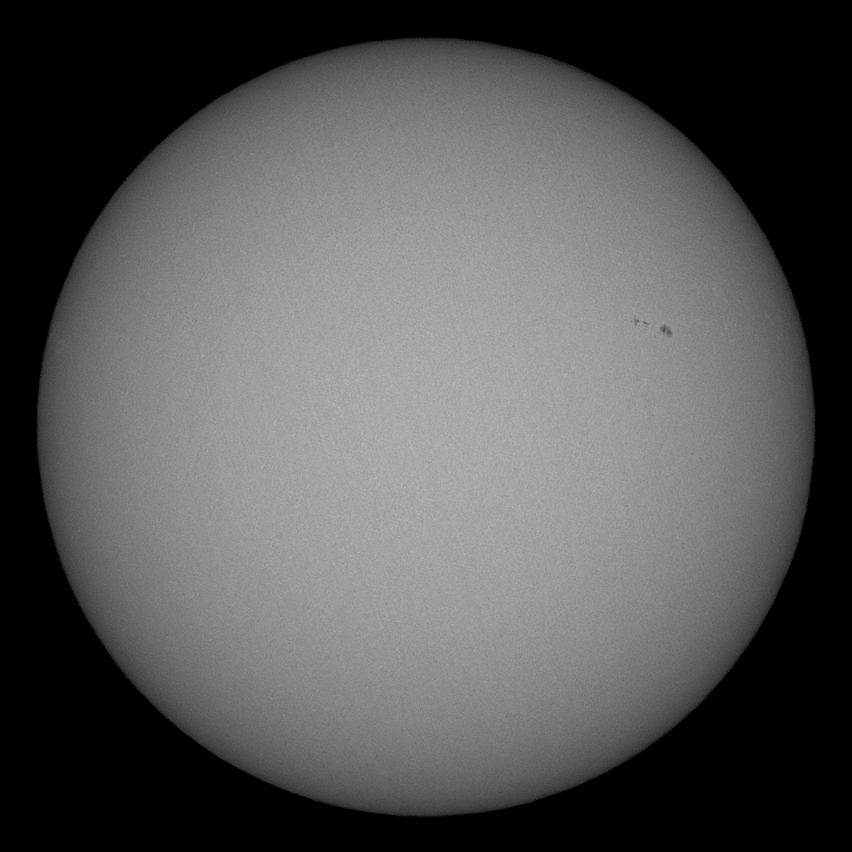sunspot: (627, 311, 678, 339)
